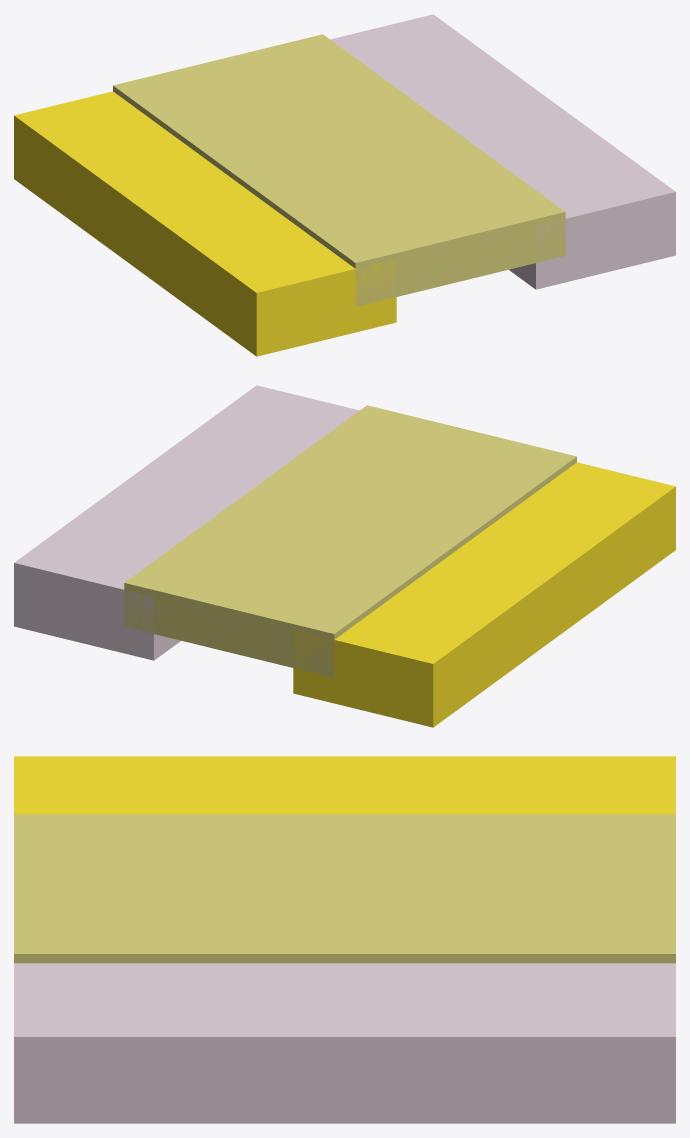
Rendered from nav_mesh_01.glb.
The picture shows the model from 3 angles, top to bottom: view 1: azimuth 30°, elevation 25°; view 2: azimuth 150°, elevation 25°; view 3: azimuth 270°, elevation 25°; orthographic projection. The views are drawn at different scales.
Bounding box in the file's own units: 150 × 24.08 × 150.
